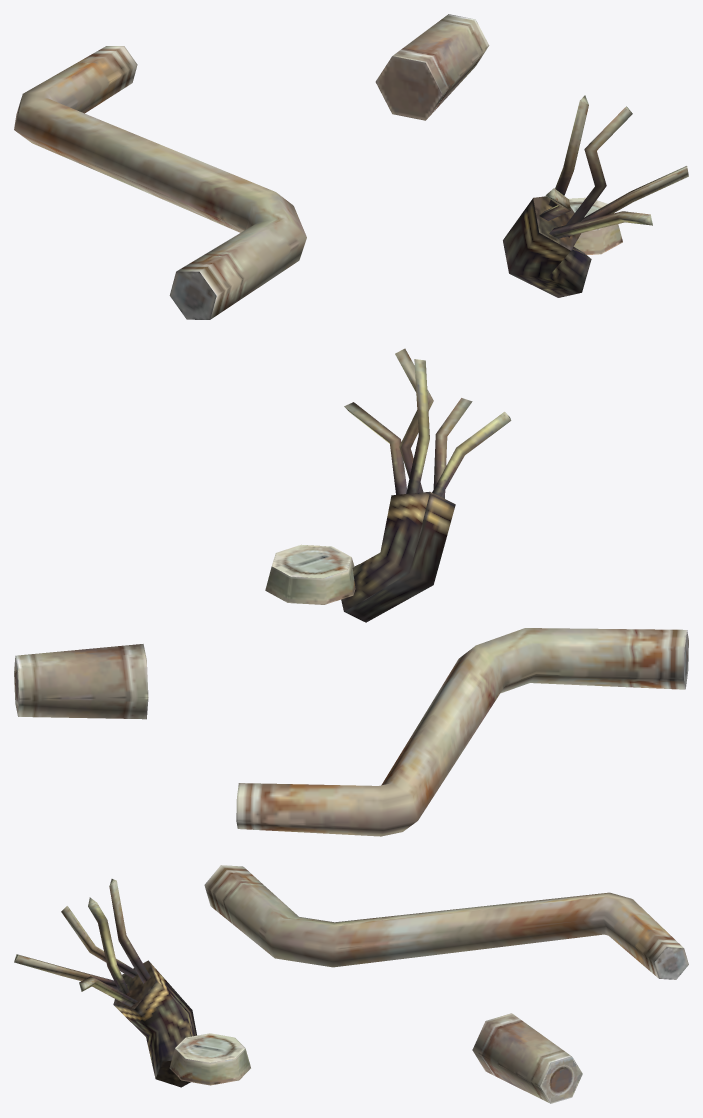
Rendered from tyt_arch_fleshraider_junk_15.glb.
3 renders of one model, top to bottom at view 1: azimuth 30°, elevation 25°; view 2: azimuth 150°, elevation 25°; view 3: azimuth 270°, elevation 25°, orthographic. The views are drawn at different scales.
Parts seen in each view (by area): view 1: tyt_arch_fleshraider_junk_15; view 2: tyt_arch_fleshraider_junk_15; view 3: tyt_arch_fleshraider_junk_15.
Part boxes in pixels (box(x1,y1,x2,y2)): tyt_arch_fleshraider_junk_15: box(14, 14, 688, 319); tyt_arch_fleshraider_junk_15: box(14, 348, 688, 836); tyt_arch_fleshraider_junk_15: box(14, 865, 688, 1103).
Bounding box in the file's own units: 0.1713 × 0.0783 × 0.2365.
1 material, 1 textured.
